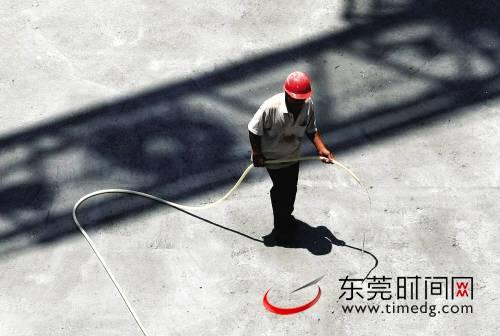helmet: (281, 69, 313, 108)
